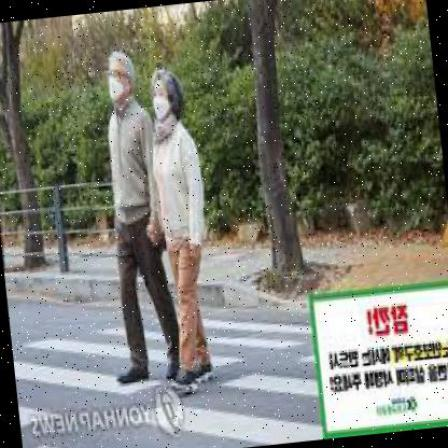silver: (85, 43, 183, 383), (141, 68, 224, 395)
